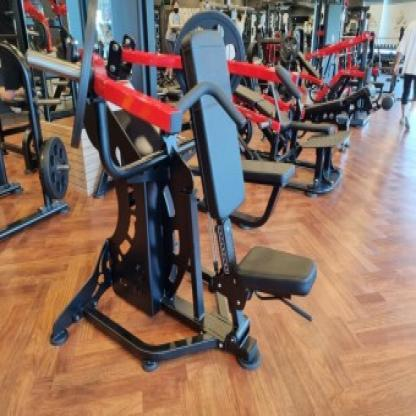shoulder press machine: (11, 0, 354, 393)
